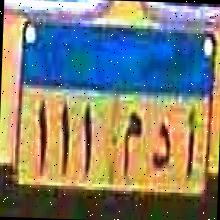1: (32, 93, 53, 181), (77, 96, 99, 178), (54, 98, 75, 180)
alif: (181, 100, 199, 185)
daal: (148, 114, 173, 177)
meem: (119, 105, 144, 180)
